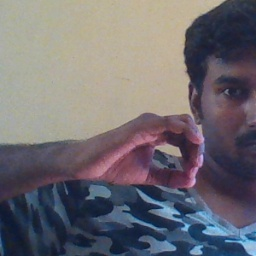O: (94, 103, 212, 204)
